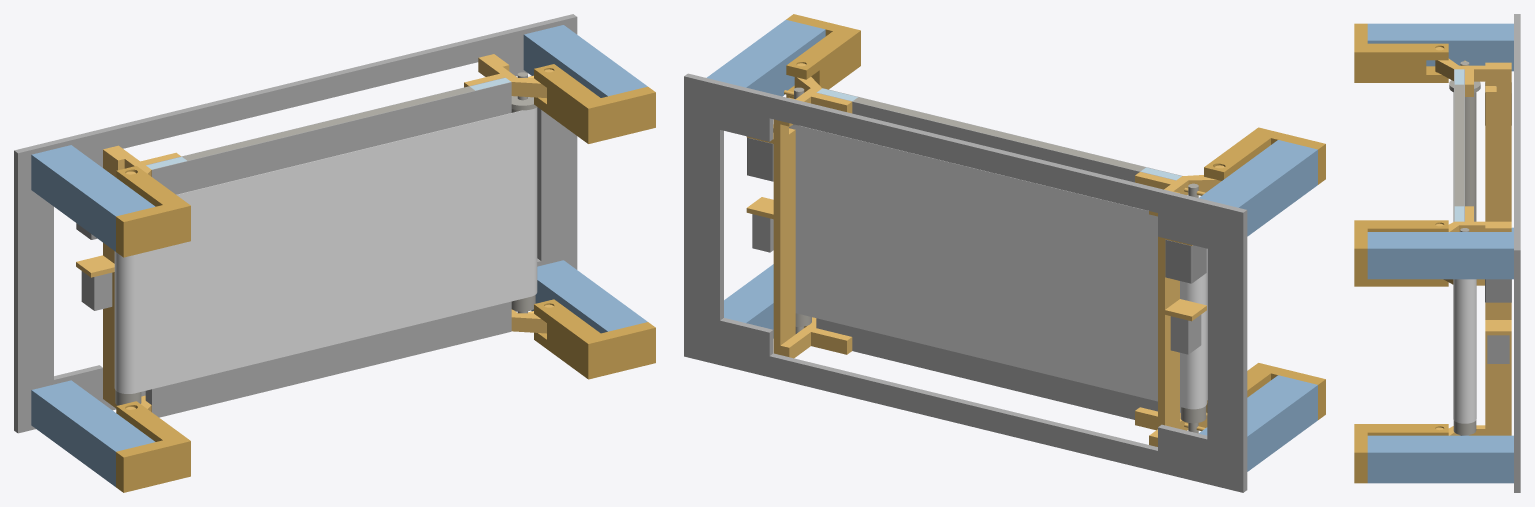
The model's file is treadmill_export.gltf.
3 views of the same model, side by side, from view 1: azimuth 30°, elevation 25°; view 2: azimuth 150°, elevation 25°; view 3: azimuth 270°, elevation 25° (orthographic). The views are drawn at different scales.
Parts seen in each view (by area): view 1: mesh175_meshnode_175, mesh299_meshnode_299, mesh266_meshnode_266, mesh4_meshnode_4, mesh364_meshnode_364, mesh315_meshnode_315, mesh382_meshnode_382, mesh427_meshnode_427, mesh418_meshnode_418, mesh383_meshnode_383, mesh316_meshnode_316, mesh176_meshnode_176 (+21 smaller); view 2: mesh177_meshnode_177, mesh79_meshnode_79, mesh225_meshnode_225, mesh267_meshnode_267, mesh5_meshnode_5, mesh365_meshnode_365, mesh104_meshnode_104, mesh275_meshnode_275, mesh358_meshnode_358, mesh391_meshnode_391, mesh158_meshnode_158, mesh427_meshnode_427 (+20 smaller); view 3: mesh421_meshnode_421, mesh426_meshnode_426, mesh55_meshnode_55, mesh174_meshnode_174, mesh157_meshnode_157, mesh315_meshnode_315, mesh418_meshnode_418, mesh427_meshnode_427, mesh227_meshnode_227, mesh314_meshnode_314, mesh44_meshnode_44, mesh285_meshnode_285 (+27 smaller).
Boxes of the visible parts, x1=… form: mesh175_meshnode_175: x1=135, y1=109, x2=530, y2=393; mesh299_meshnode_299: x1=152, y1=82, x2=511, y2=417; mesh266_meshnode_266: x1=103, y1=38, x2=491, y2=149; mesh4_meshnode_4: x1=18, y1=193, x2=53, y2=388; mesh364_meshnode_364: x1=541, y1=110, x2=577, y2=260; mesh315_meshnode_315: x1=32, y1=145, x2=155, y2=216; mesh382_meshnode_382: x1=32, y1=380, x2=154, y2=451; mesh427_meshnode_427: x1=524, y1=25, x2=647, y2=96; mesh418_meshnode_418: x1=537, y1=260, x2=647, y2=331; mesh383_meshnode_383: x1=31, y1=390, x2=115, y2=486; mesh316_meshnode_316: x1=31, y1=155, x2=115, y2=251; mesh176_meshnode_176: x1=114, y1=251, x2=134, y2=393; mesh177_meshnode_177: x1=791, y1=125, x2=1186, y2=408; mesh79_meshnode_79: x1=816, y1=101, x2=1157, y2=419; mesh225_meshnode_225: x1=769, y1=356, x2=1157, y2=471; mesh267_meshnode_267: x1=769, y1=97, x2=1157, y2=212; mesh5_meshnode_5: x1=1207, y1=249, x2=1243, y2=447; mesh365_meshnode_365: x1=684, y1=121, x2=719, y2=320; mesh104_meshnode_104: x1=684, y1=76, x2=769, y2=141; mesh275_meshnode_275: x1=1158, y1=427, x2=1243, y2=492; mesh358_meshnode_358: x1=684, y1=312, x2=769, y2=377; mesh391_meshnode_391: x1=1158, y1=192, x2=1243, y2=257; mesh158_meshnode_158: x1=780, y1=124, x2=795, y2=345; mesh427_meshnode_427: x1=706, y1=20, x2=825, y2=87; mesh421_meshnode_421: x1=1367, y1=452, x2=1513, y2=483; mesh426_meshnode_426: x1=1367, y1=248, x2=1513, y2=279; mesh55_meshnode_55: x1=1485, y1=81, x2=1511, y2=221; mesh174_meshnode_174: x1=1453, y1=279, x2=1476, y2=423; mesh157_meshnode_157: x1=1485, y1=228, x2=1511, y2=435; mesh315_meshnode_315: x1=1367, y1=23, x2=1513, y2=40; mesh418_meshnode_418: x1=1367, y1=435, x2=1513, y2=452; mesh427_meshnode_427: x1=1367, y1=232, x2=1513, y2=248; mesh227_meshnode_227: x1=1367, y1=52, x2=1448, y2=82; mesh314_meshnode_314: x1=1367, y1=40, x2=1513, y2=71; mesh44_meshnode_44: x1=1453, y1=92, x2=1476, y2=221; mesh285_meshnode_285: x1=1454, y1=84, x2=1464, y2=206.
Size of the model in its own units: 2.49 by 1.19 by 0.74.
